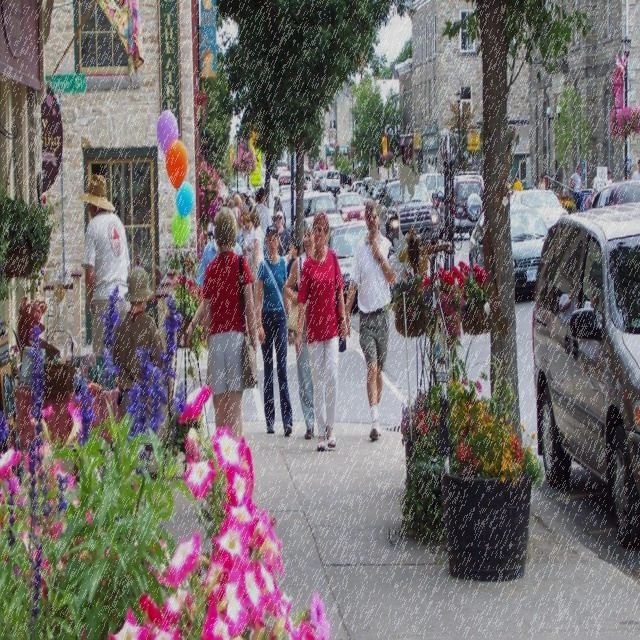pessoa: (341, 197, 399, 443), (294, 208, 349, 454), (201, 206, 258, 437), (77, 174, 131, 356), (253, 223, 296, 438), (110, 266, 164, 426), (283, 219, 321, 442), (210, 186, 290, 254), (554, 264, 606, 339), (249, 208, 265, 295), (240, 208, 254, 294), (254, 186, 272, 238), (274, 209, 290, 257), (570, 165, 585, 213), (604, 170, 614, 208), (506, 167, 519, 193), (512, 172, 524, 192), (632, 157, 640, 181), (537, 173, 546, 189)
